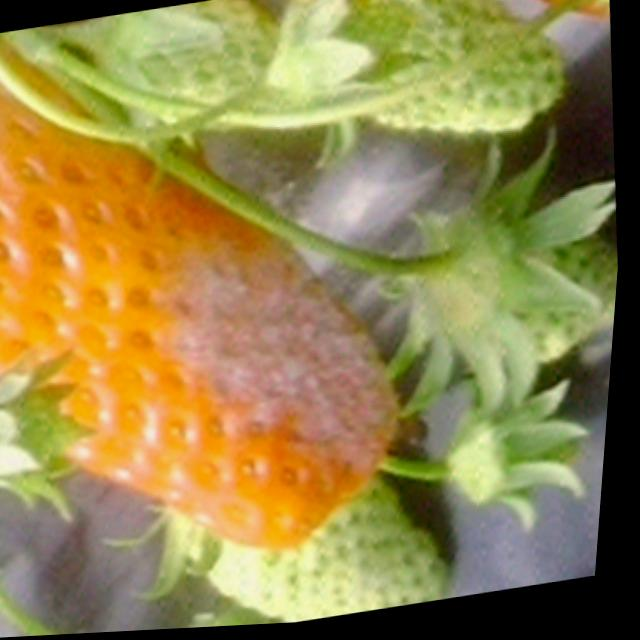Powdery Mildew Fruit: (139, 218, 407, 506)
